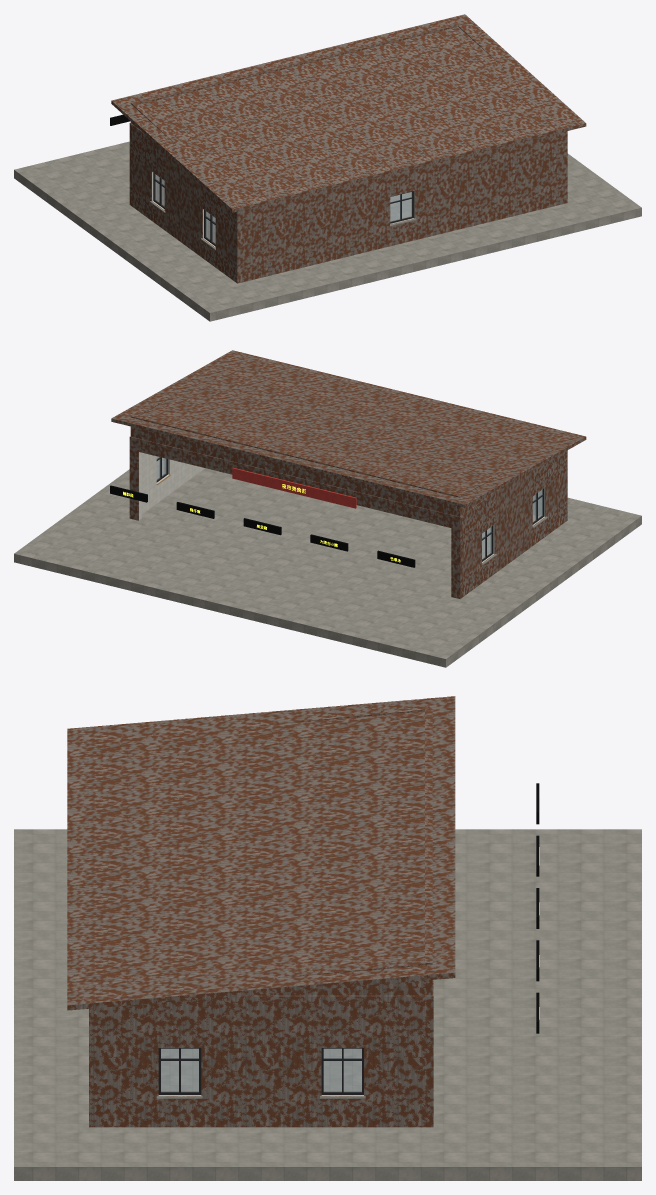
The model's file is b_night_market_row.gltf.
The picture shows the model from 3 angles, top to bottom: view 1: azimuth 30°, elevation 25°; view 2: azimuth 150°, elevation 25°; view 3: azimuth 270°, elevation 25°; orthographic projection. The views are drawn at different scales.
Visible parts, largest first — view 1: S_night_market_row; view 2: S_night_market_row; view 3: S_night_market_row.
Boxes of the visible parts, box(x1,y1,x2,y2) form: S_night_market_row: box(14, 14, 641, 321); S_night_market_row: box(14, 350, 641, 667); S_night_market_row: box(14, 696, 641, 1180).
Size of the model in its own units: 21 by 5.15 by 16.5.
14 materials, 8 textured.
